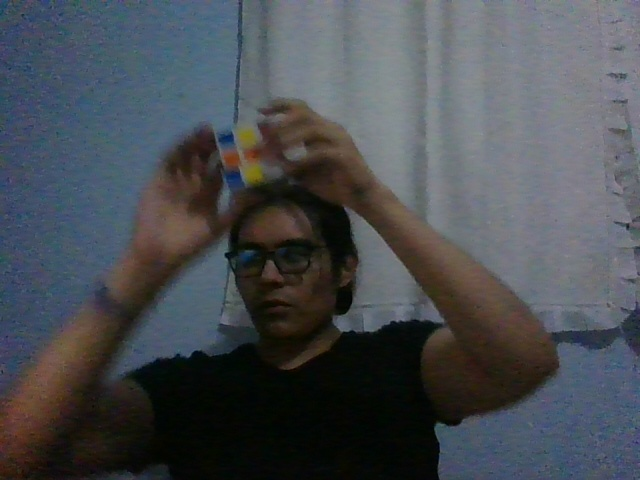rubik: (213, 120, 292, 199)
